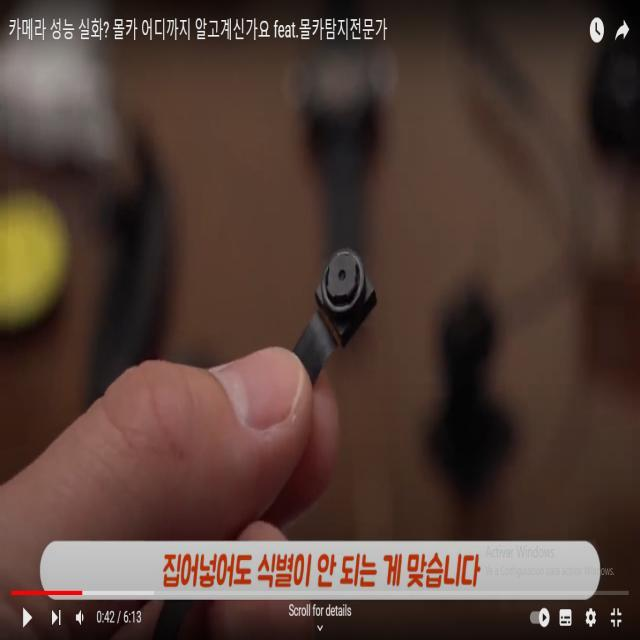hidden camera: (337, 265, 350, 283)
